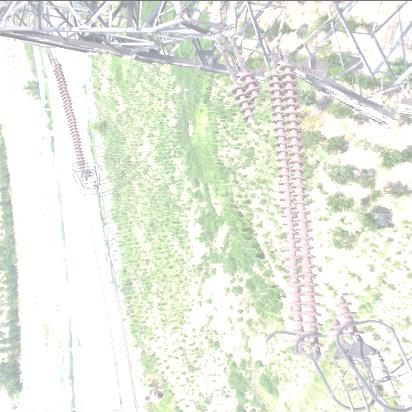insulator: (209, 53, 387, 356), (49, 58, 93, 171)
